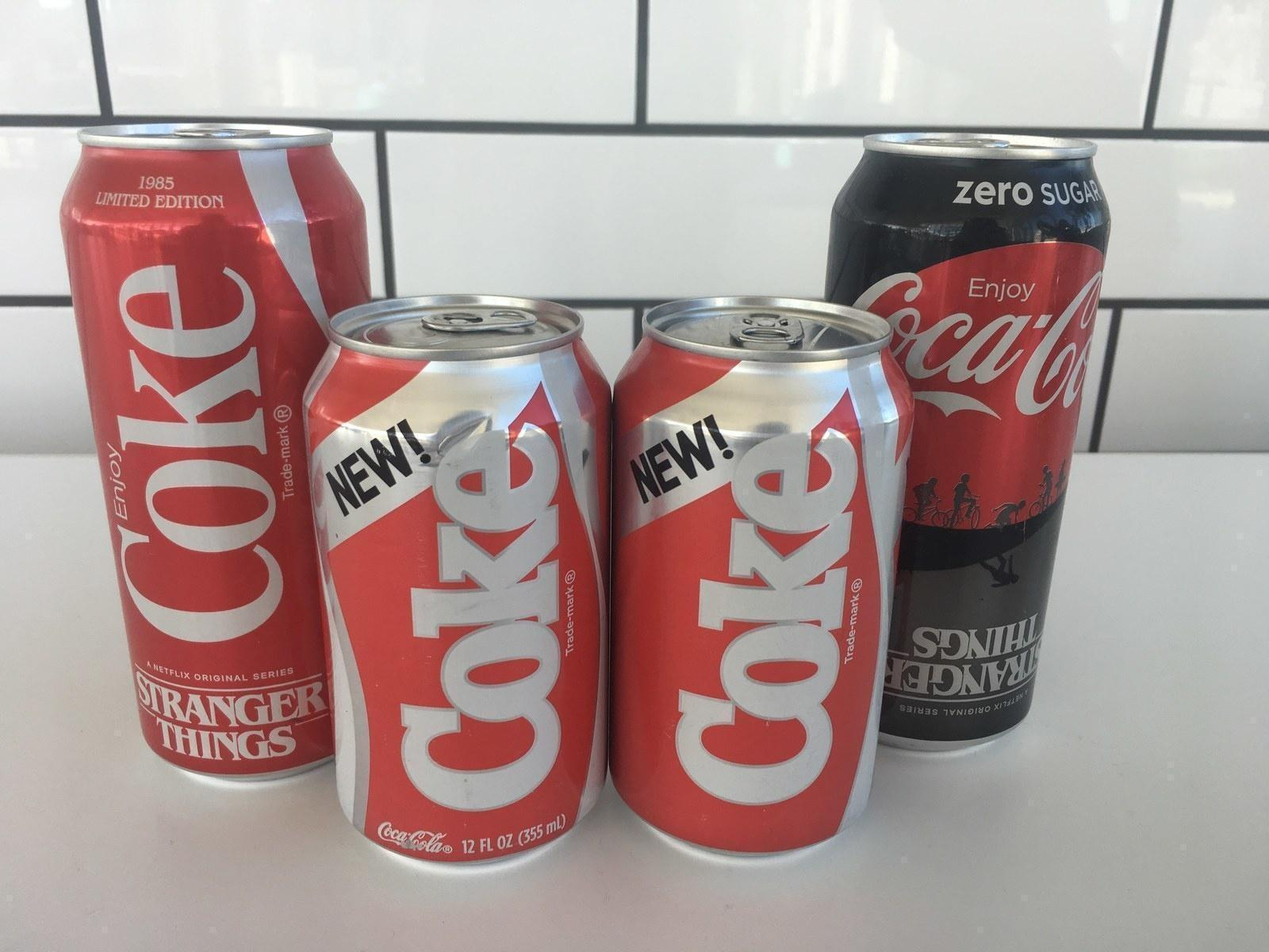tin can: (58, 117, 370, 800), (821, 130, 1115, 767), (306, 282, 611, 885), (609, 290, 902, 866)
